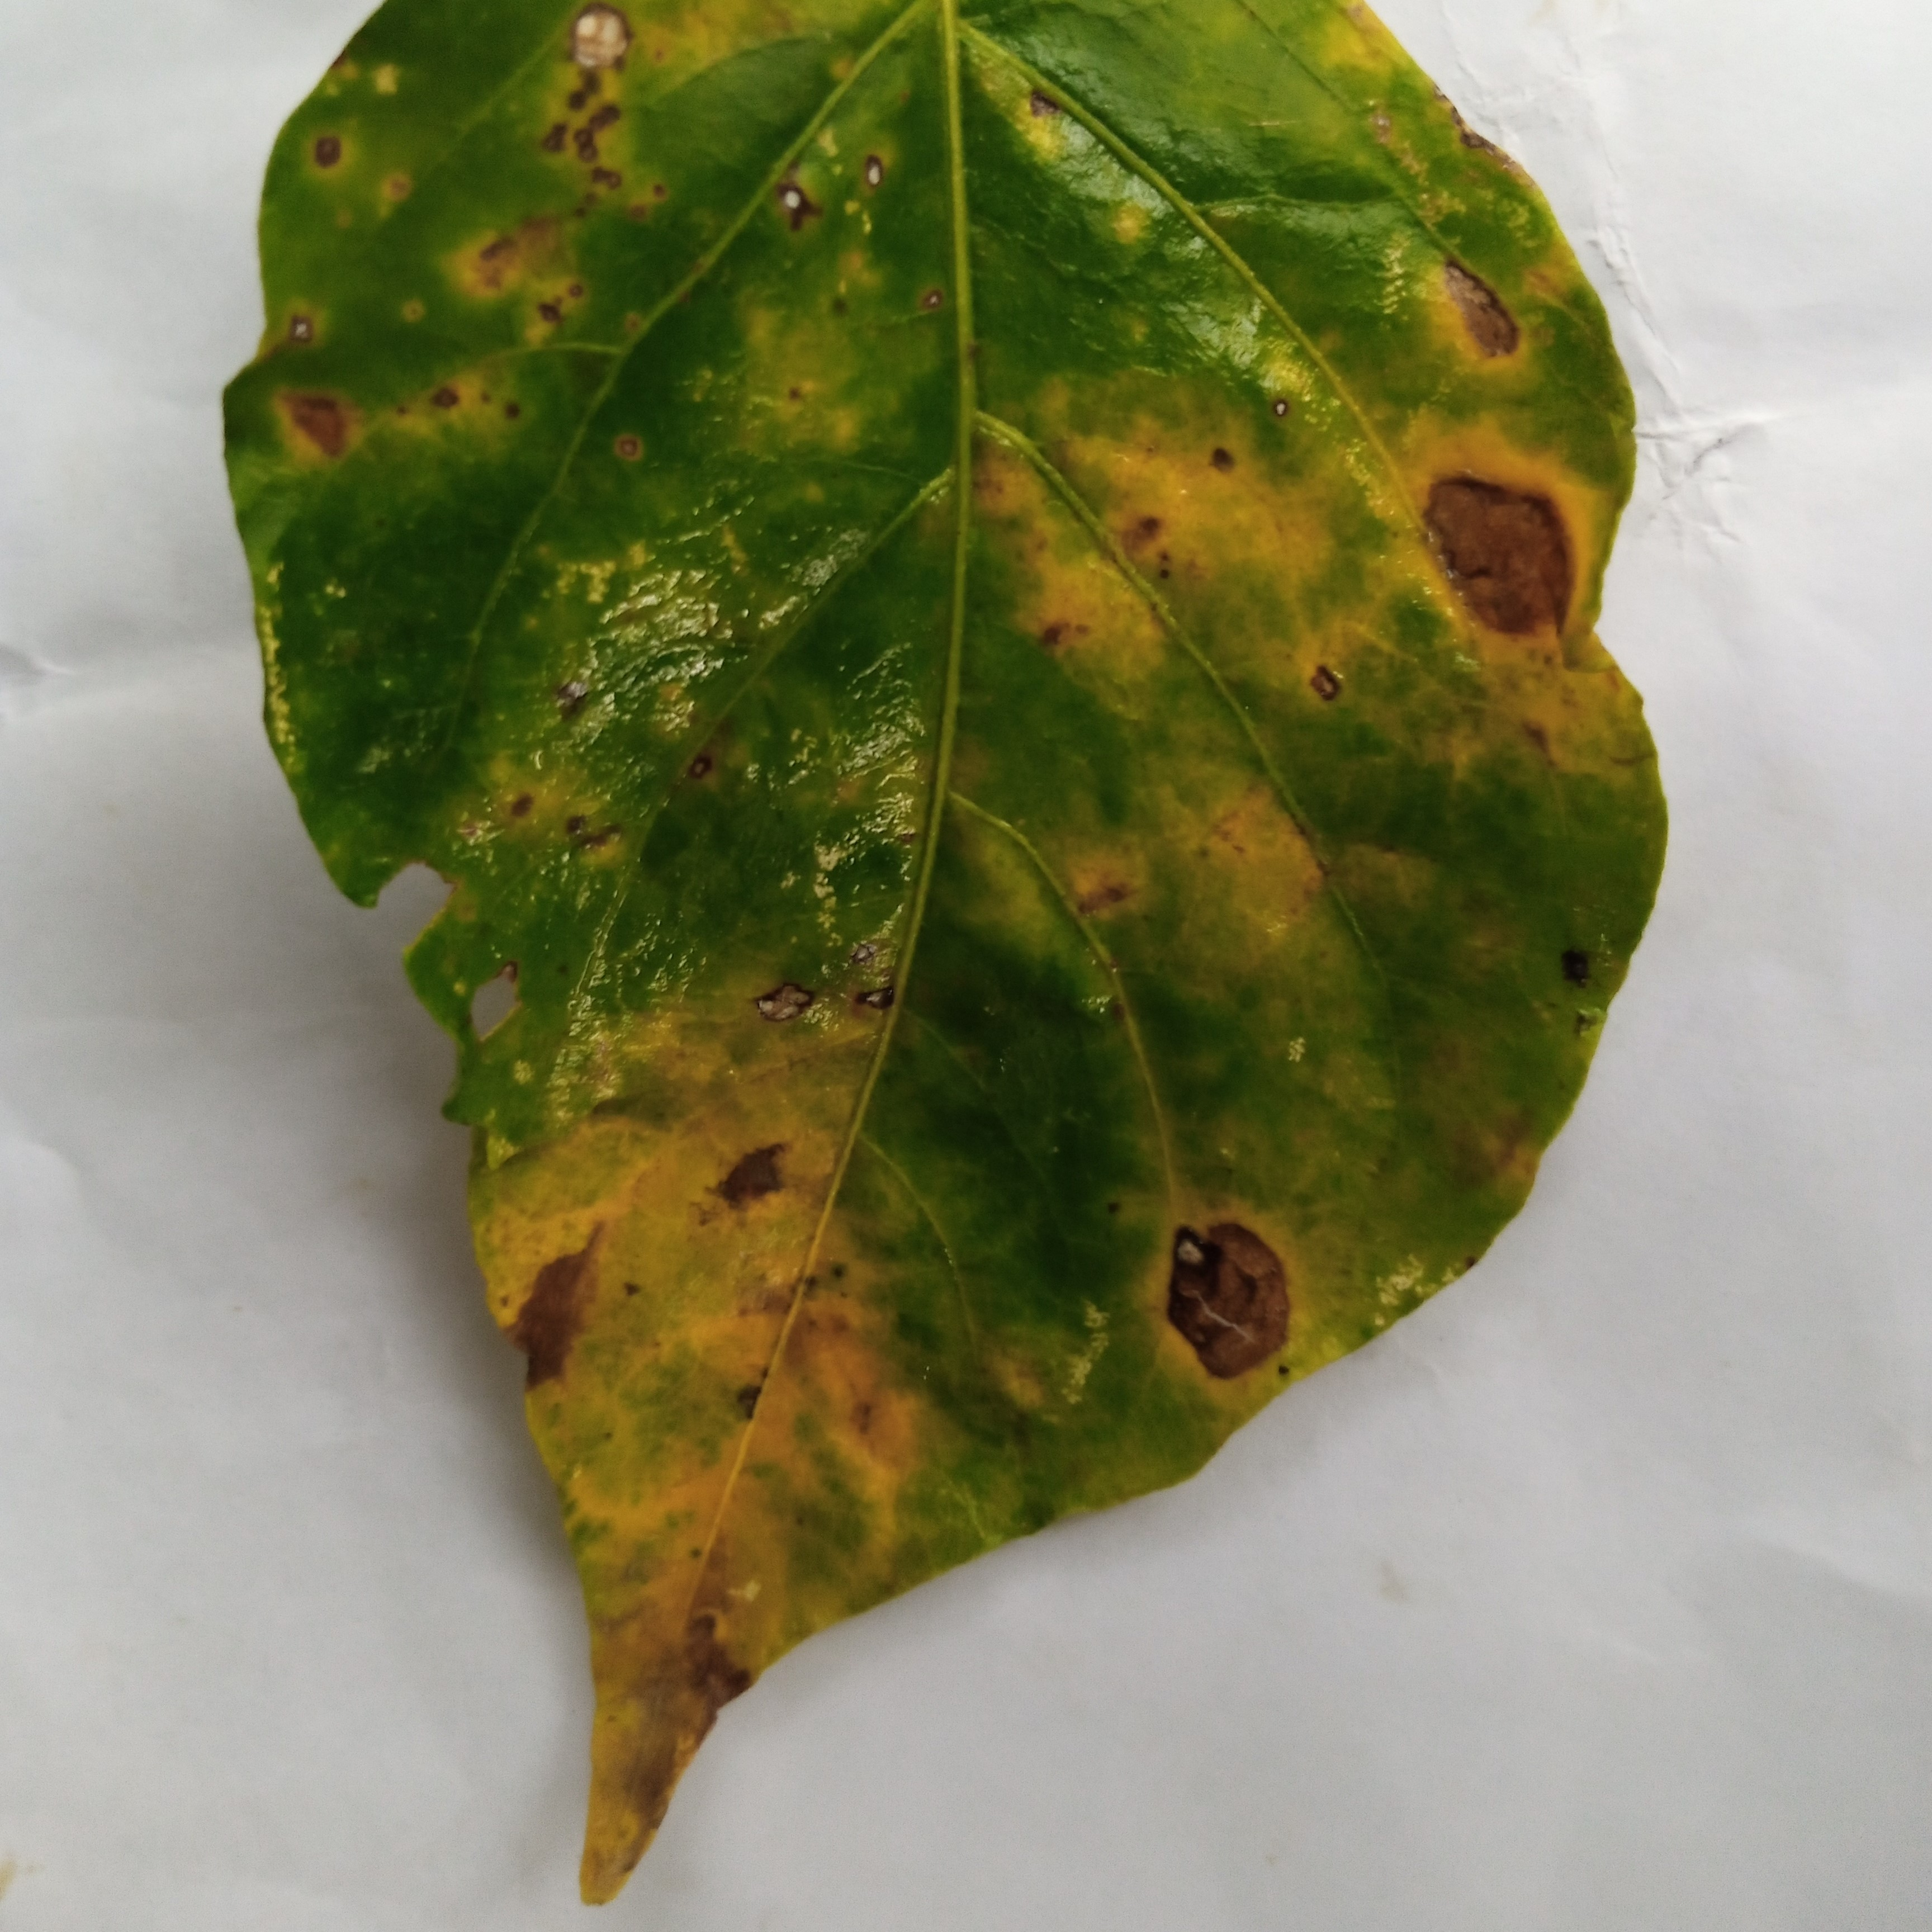Leaf: (78, 16, 1801, 1913)
